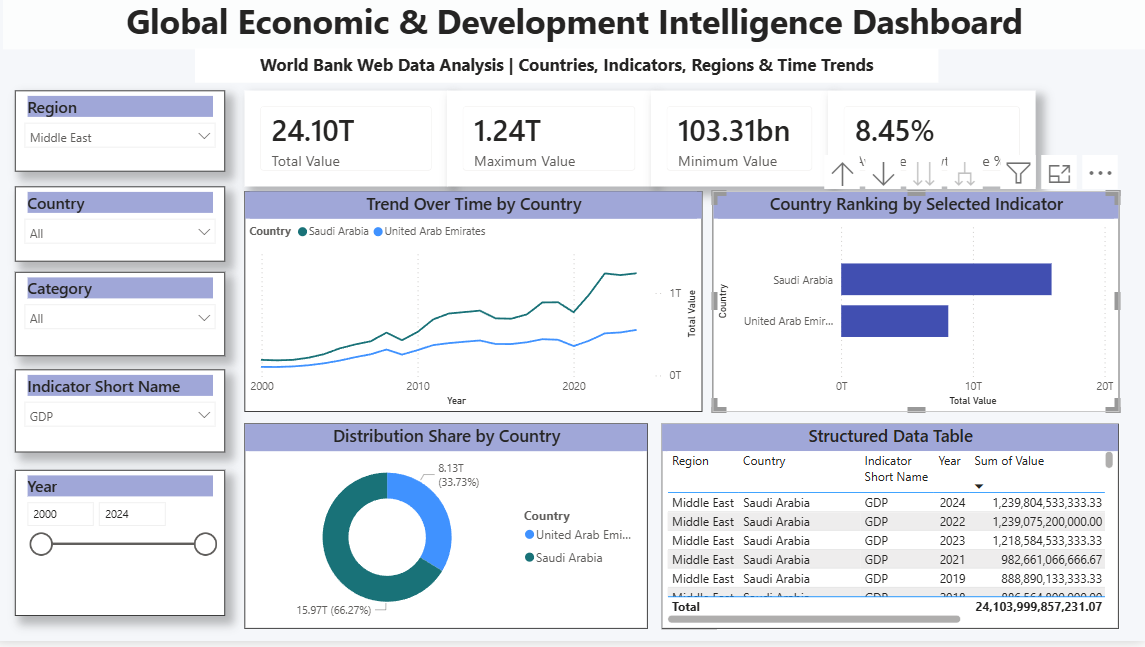

What the dashboard file says about the page in this screenshot:
{"tool":"powerbi","page":{"name":"Economic Intelligence Dashboard","canvas":[1280,720],"ordinal":0},"visuals":[{"type":"textbox","box":[9.4,0,1269.9,62.4],"z":0},{"type":"textbox","box":[223,62.4,825.8,37.8],"z":1},{"type":"slicer","fields":{"Values":["DimCountry.Region"]},"box":[23.3,108.3,233.3,90],"z":2},{"type":"slicer","fields":{"Values":["DimCountry.Country"]},"box":[23.3,215,233.3,83.3],"z":3},{"type":"slicer","fields":{"Values":["DimIndicator.Category"]},"box":[23.3,310,233.3,93.3],"z":4},{"type":"slicer","fields":{"Values":["DimIndicator.Indicator Short Name"]},"box":[23.3,418.3,233.3,91.7],"z":5},{"type":"slicer","fields":{"Values":["DimYear.Year"]},"box":[23.3,530,233.3,161.7],"z":6},{"type":"cardVisual","fields":{"Data":["Fact_WorldBankData.Total Value"]},"box":[278.3,108.3,225,106.7],"z":7},{"type":"cardVisual","fields":{"Data":["Fact_WorldBankData.Maximum Value"]},"box":[503.3,108.3,226.7,106.7],"z":8},{"type":"cardVisual","fields":{"Data":["Fact_WorldBankData.Minimum Value"]},"box":[730,108.5,196.9,106.9],"z":9},{"type":"cardVisual","fields":{"Data":["Fact_WorldBankData.Average Growth Rate %"]},"box":[926.9,108.5,230.8,106.9],"z":10},{"type":"lineChart","title":"Trend Over Time by Country","fields":{"Category":["DimYear.Year"],"Y2":["Fact_WorldBankData.Total Value"],"Series":["DimCountry.Country"]},"box":[278.3,220,508.3,245],"z":11},{"type":"clusteredBarChart","title":"Country Ranking by Selected Indicator","fields":{"Category":["DimCountry.Region","DimCountry.Country"],"Y":["Fact_WorldBankData.Total Value"]},"box":[798.3,220,451.7,245],"z":12},{"type":"donutChart","title":"Distribution Share by Country","fields":{"Category":["DimCountry.Country"],"Y":["Fact_WorldBankData.Total Value"]},"box":[278,478,448,228],"z":13},{"type":"tableEx","title":"Structured Data Table","fields":{"Values":["DimCountry.Region","DimCountry.Country","DimIndicator.Indicator Short Name","DimYear.Year","Sum(Fact_WorldBankData.Value)","Sum(Fact_WorldBankData.Growth Rate %)","Sum(Fact_WorldBankData.Country Share %)"]},"box":[742,478,508,228],"z":14}]}

Visuals, with their boxes in screenshot pixels (x1, y1, x2, y2), scaled from the page's 1280x720 canvas onto the 1145x647 screenshot:
textbox: Rect(8, 0, 1144, 56)
textbox: Rect(199, 56, 938, 90)
slicer - DimCountry.Region: Rect(21, 97, 230, 178)
slicer - DimCountry.Country: Rect(21, 193, 230, 268)
slicer - DimIndicator.Category: Rect(21, 279, 230, 362)
slicer - DimIndicator.Indicator Short Name: Rect(21, 376, 230, 458)
slicer - DimYear.Year: Rect(21, 476, 230, 622)
cardVisual - Fact_WorldBankData.Total Value: Rect(249, 97, 450, 193)
cardVisual - Fact_WorldBankData.Maximum Value: Rect(450, 97, 653, 193)
cardVisual - Fact_WorldBankData.Minimum Value: Rect(653, 97, 829, 194)
cardVisual - Fact_WorldBankData.Average Growth Rate %: Rect(829, 97, 1036, 194)
"Trend Over Time by Country" lineChart: Rect(249, 198, 704, 418)
"Country Ranking by Selected Indicator" clusteredBarChart: Rect(714, 198, 1118, 418)
"Distribution Share by Country" donutChart: Rect(249, 430, 649, 634)
"Structured Data Table" tableEx: Rect(664, 430, 1118, 634)
